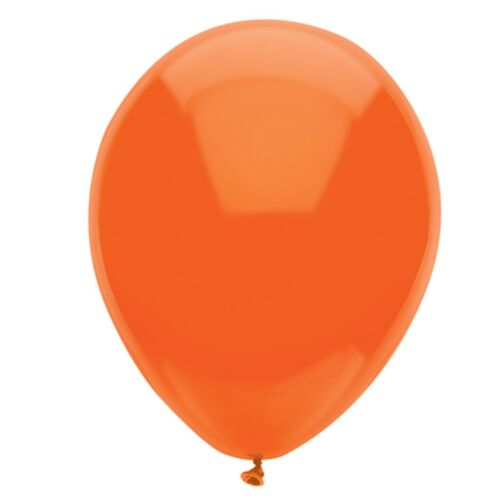Balloon: (89, 20, 442, 459)
